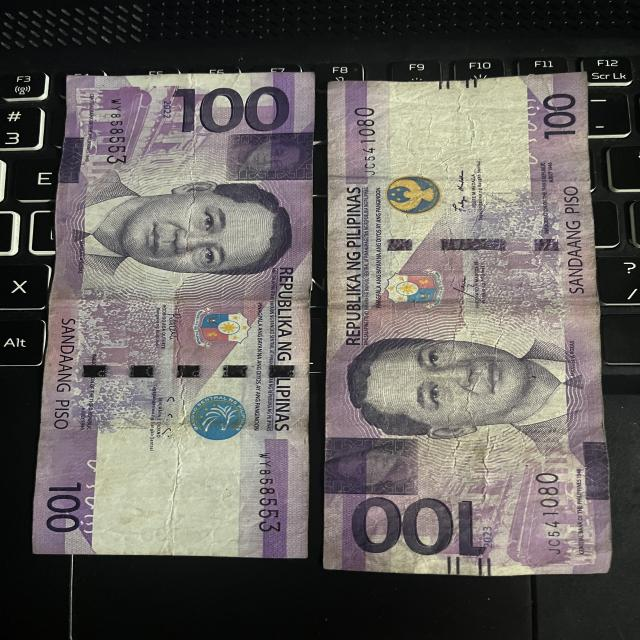concealed_value: (320, 438, 420, 493), (230, 134, 311, 181)
security_thread: (46, 364, 310, 380), (337, 236, 598, 252)
serial_number: (528, 465, 571, 555), (344, 99, 389, 182), (94, 85, 138, 168), (251, 444, 285, 540)
value: (345, 488, 493, 567), (167, 82, 296, 138)
value_watermark: (137, 524, 185, 547)
watermark: (112, 449, 262, 542), (394, 100, 516, 179)
